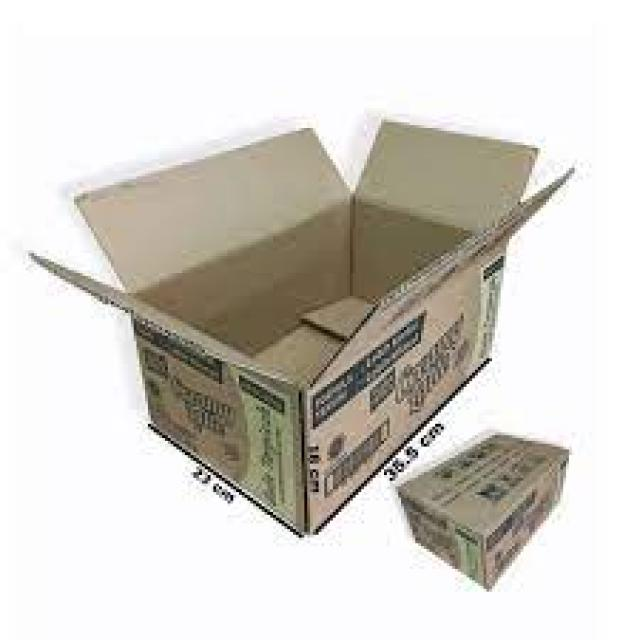Kardus kondisi bagus: (30, 121, 574, 543), (398, 439, 567, 593)
